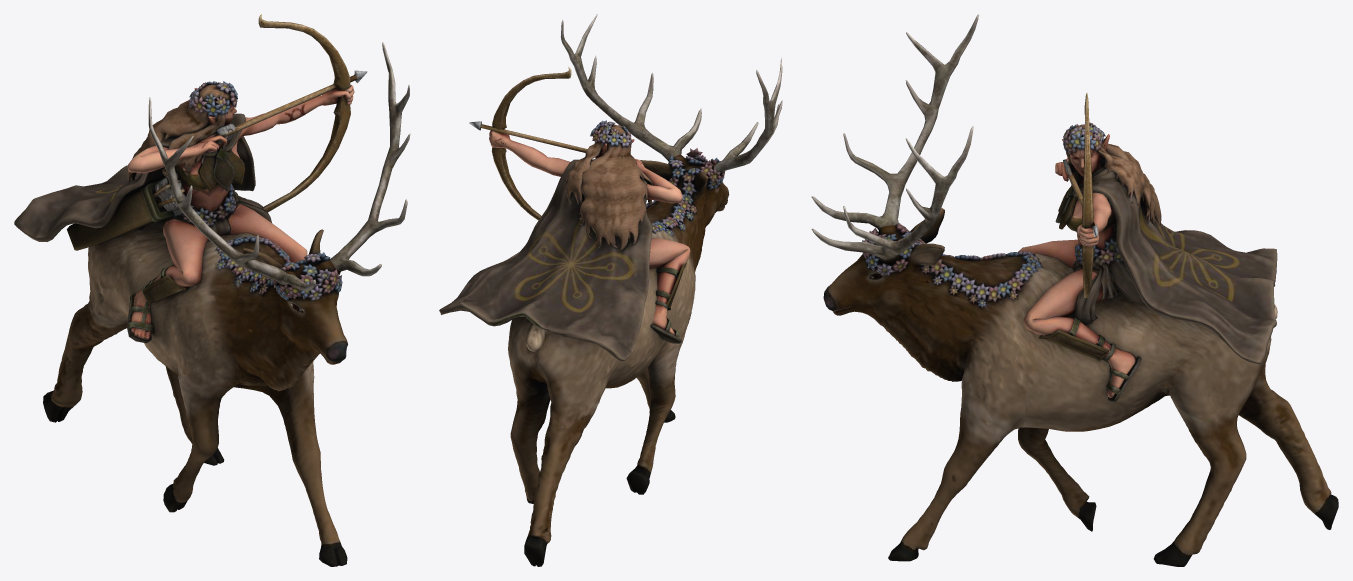
File: MZ4250 - Elf Female Ranger on Elk.glb
3 views of the same model, side by side, from view 1: azimuth 30°, elevation 25°; view 2: azimuth 150°, elevation 25°; view 3: azimuth 270°, elevation 25° (orthographic). The views are drawn at different scales.
Visible parts, largest first — view 1: Body.002; view 2: Body.002; view 3: Body.002.
Part boxes in pixels (x1,y1,x2,y2): Body.002: [14, 14, 410, 566]; Body.002: [439, 14, 782, 566]; Body.002: [811, 14, 1338, 566].
Size of the model in its own units: 0.8543 by 1.38 by 1.38.
1 material, 1 textured.
